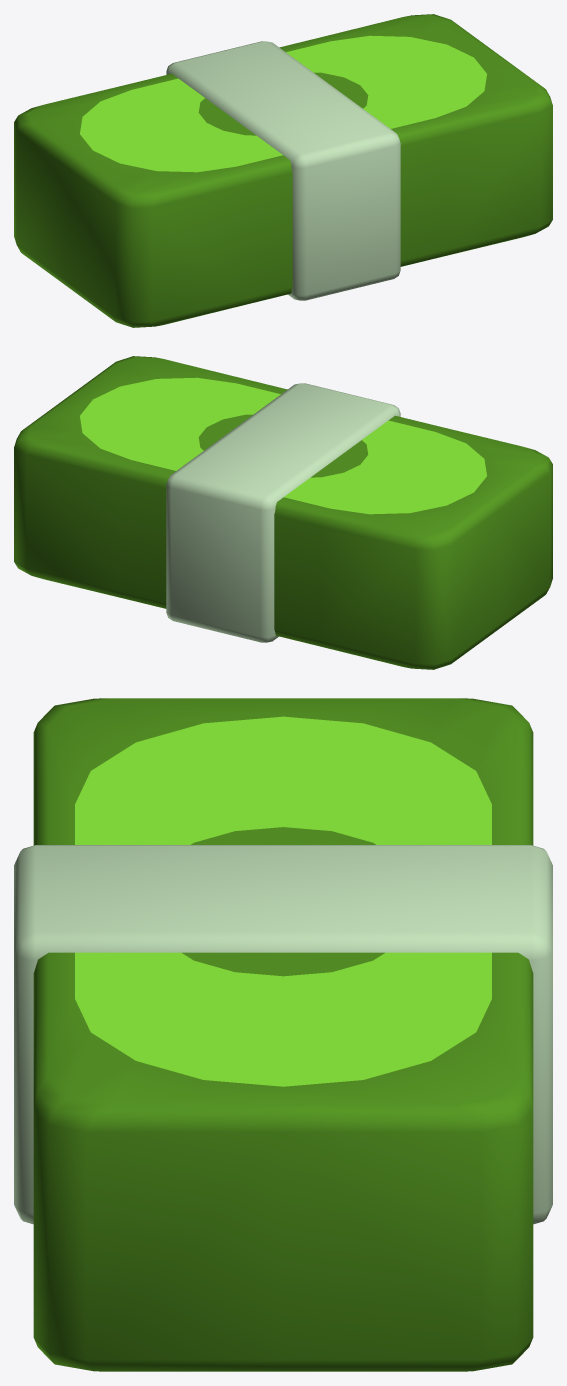
File: MoneyModel.fbx
3 views of the same model, one above another, from view 1: azimuth 30°, elevation 25°; view 2: azimuth 150°, elevation 25°; view 3: azimuth 270°, elevation 25° (orthographic). The views are drawn at different scales.
Parts seen in each view (by area): view 1: MoneyModel; view 2: MoneyModel; view 3: MoneyModel.
Part boxes in pixels (bbox=[...]): MoneyModel: bbox=[14, 14, 552, 327]; MoneyModel: bbox=[14, 356, 552, 669]; MoneyModel: bbox=[14, 698, 552, 1371].
Bounding box in the file's own units: 63.75 × 20.57 × 34.39.
